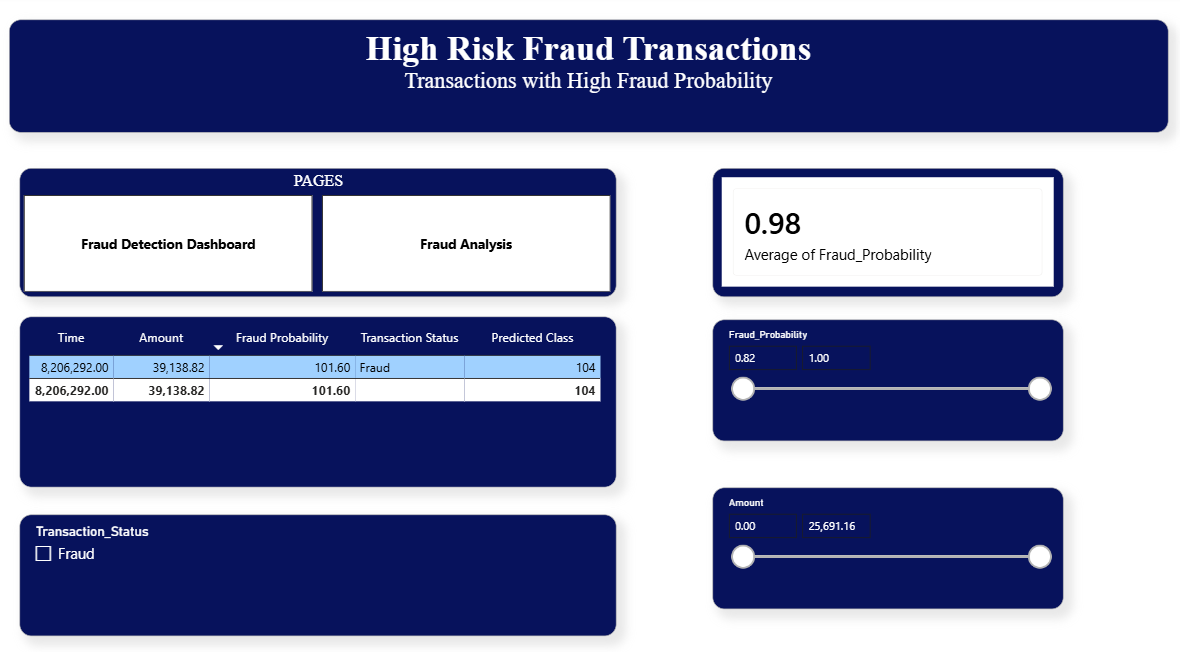

What the dashboard file says about the page in this screenshot:
{"tool":"powerbi","page":{"name":"High Risk Transactions","canvas":[1280,720],"ordinal":2},"visuals":[{"type":"textbox","box":[9.9,28.2,1257.3,122.6],"z":0},{"type":"tableEx","fields":{"Values":["Sum(fraud_predictions.Time)","Sum(fraud_predictions.Amount)","Sum(fraud_predictions.Fraud_Probability)","fraud_predictions.Transaction_Status","Sum(fraud_predictions.Predicted_Class)"]},"box":[16.3,312.3,647.4,139.9],"z":1000},{"type":"cardVisual","fields":{"Data":["Avg(fraud_predictions.Fraud_Probability)"]},"box":[790.5,188.7,286.3,139.9],"z":2000},{"type":"slicer","fields":{"Values":["fraud_predictions.Transaction_Status"]},"box":[242.4,535.1,271.6,131.8],"z":3000},{"type":"slicer","fields":{"Values":["fraud_predictions.Amount"]},"box":[772.6,535.1,380.6,131.8],"z":4000},{"type":"slicer","fields":{"Values":["fraud_predictions.Fraud_Probability"]},"box":[772.6,353,380.6,131.8],"z":5000},{"type":"pageNavigator","title":"PAGES","box":[91.1,188.7,507.5,107.4],"z":5001}]}

Visuals, with their boxes in screenshot pixels (x1, y1, x2, y2), scaled from the page's 1280x720 canvas onto the 1180x652 screenshot:
textbox: l=9, t=26, r=1168, b=137
tableEx - Sum(fraud_predictions.Time) x Sum(fraud_predictions.Amount): l=15, t=283, r=612, b=409
cardVisual - Avg(fraud_predictions.Fraud_Probability): l=729, t=171, r=993, b=298
slicer - fraud_predictions.Transaction_Status: l=223, t=485, r=474, b=604
slicer - fraud_predictions.Amount: l=712, t=485, r=1063, b=604
slicer - fraud_predictions.Fraud_Probability: l=712, t=320, r=1063, b=439
"PAGES" pageNavigator: l=84, t=171, r=552, b=268
